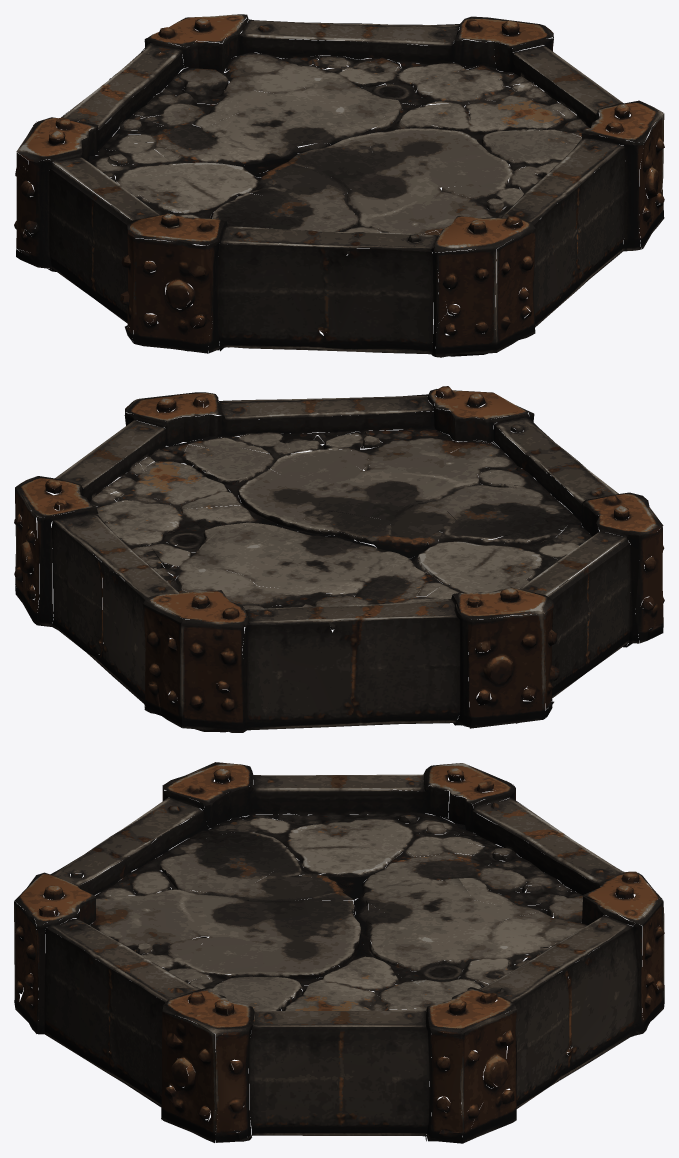
The model's file is tr_floor_2.glb.
3 renders of one model, top to bottom at view 1: azimuth 30°, elevation 25°; view 2: azimuth 150°, elevation 25°; view 3: azimuth 270°, elevation 25°, orthographic. The views are drawn at different scales.
Visible parts, largest first — view 1: tr_floor_2; view 2: tr_floor_2; view 3: tr_floor_2.
Boxes of the visible parts, <box> form: tr_floor_2: <box>14,14,664,357</box>; tr_floor_2: <box>14,386,664,732</box>; tr_floor_2: <box>14,762,664,1143</box>.
Size of the model in its own units: 1.48 by 0.3585 by 1.5.
1 material, 1 textured.
